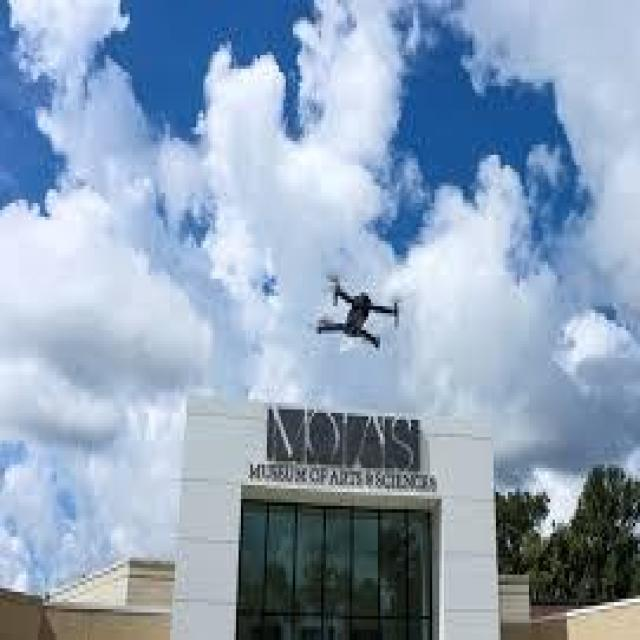drones: (314, 274, 405, 362)
